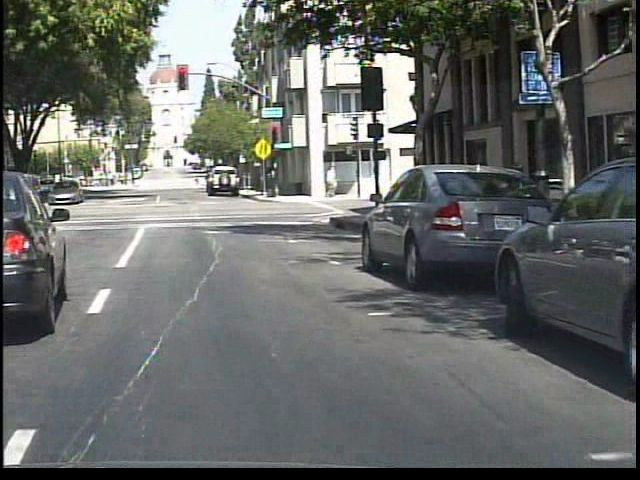person: (11, 172, 31, 212), (190, 174, 204, 191), (2, 175, 4, 212)
